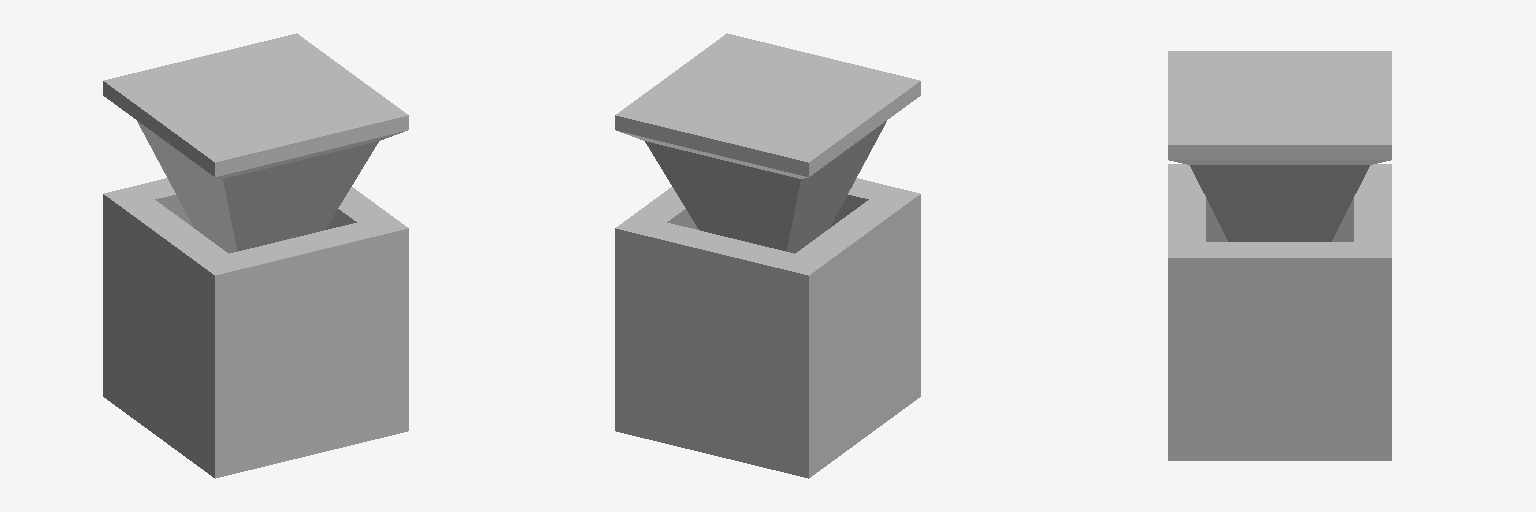
File: AnimatedBox_000146.obj
The picture shows the model from 3 angles: view 1: azimuth 30°, elevation 25°; view 2: azimuth 150°, elevation 25°; view 3: azimuth 270°, elevation 25°; orthographic projection.
Parts seen in each view (by area): view 1: Cube, Cube.001; view 2: Cube, Cube.001; view 3: Cube, Cube.001.
Part boxes in pixels (left/top/right/bottom): Cube: left=103, top=178, right=408, bottom=478; Cube.001: left=103, top=33, right=408, bottom=253; Cube: left=615, top=178, right=920, bottom=478; Cube.001: left=615, top=33, right=920, bottom=253; Cube: left=1168, top=164, right=1391, bottom=460; Cube.001: left=1168, top=51, right=1391, bottom=241.
Size of the model in its own units: 2 by 3.11 by 2.